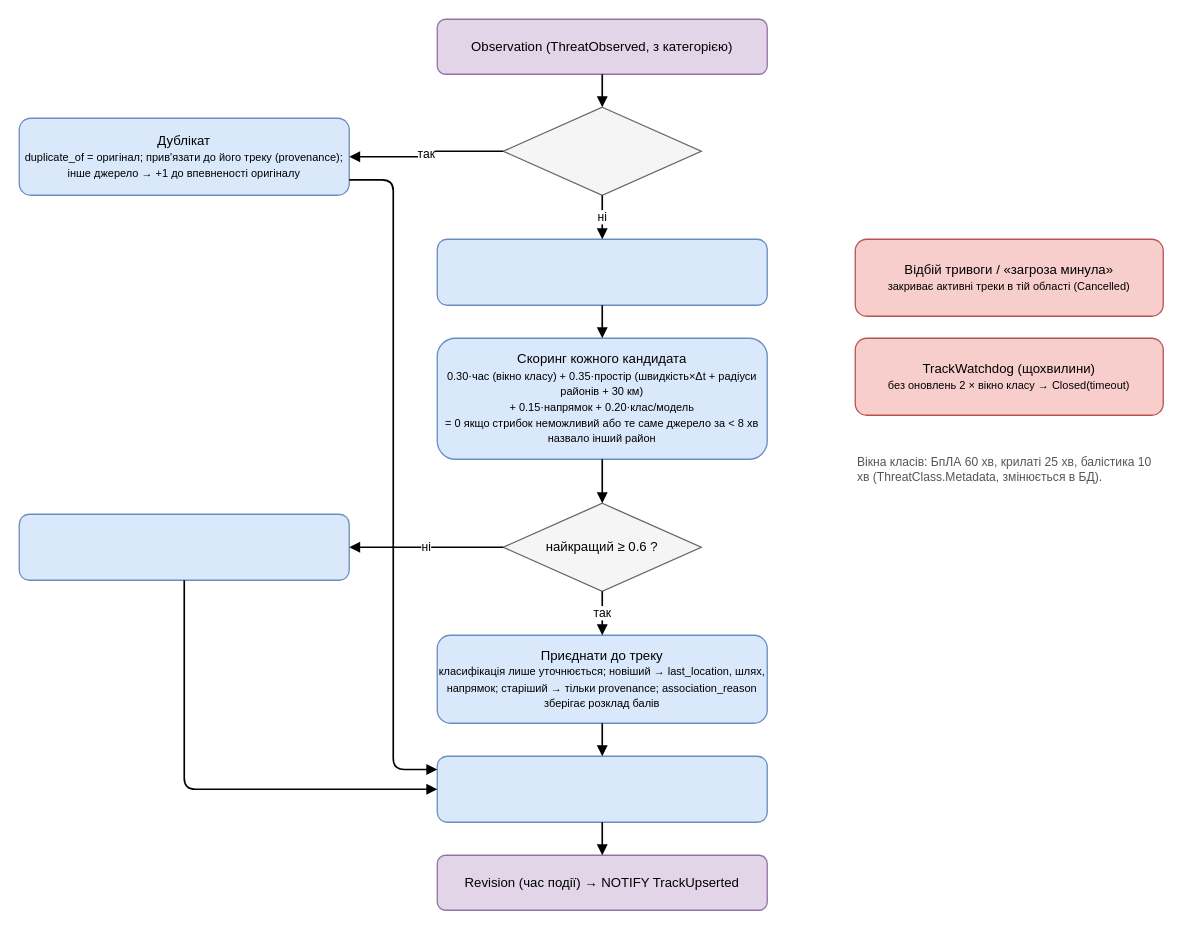
This 1184x931 diagram has some shape labels left out. The centre of each missing label's shape, as x and y in pixels:
"track_confidence = найкраща observation +1 за ≥2 джерела, +1 за ≥3 повідомлення" belongs at [601,788].
"Кандидати: активні треки тієї ж категорії, сумісний клас, last_seen ±2 год" belongs at [601,271].
"Новий ThreatTrack association_confidence = 1" belongs at [183,546].
"є таке саме за ±3 хв з іншого повідомлення?" belongs at [601,150].
